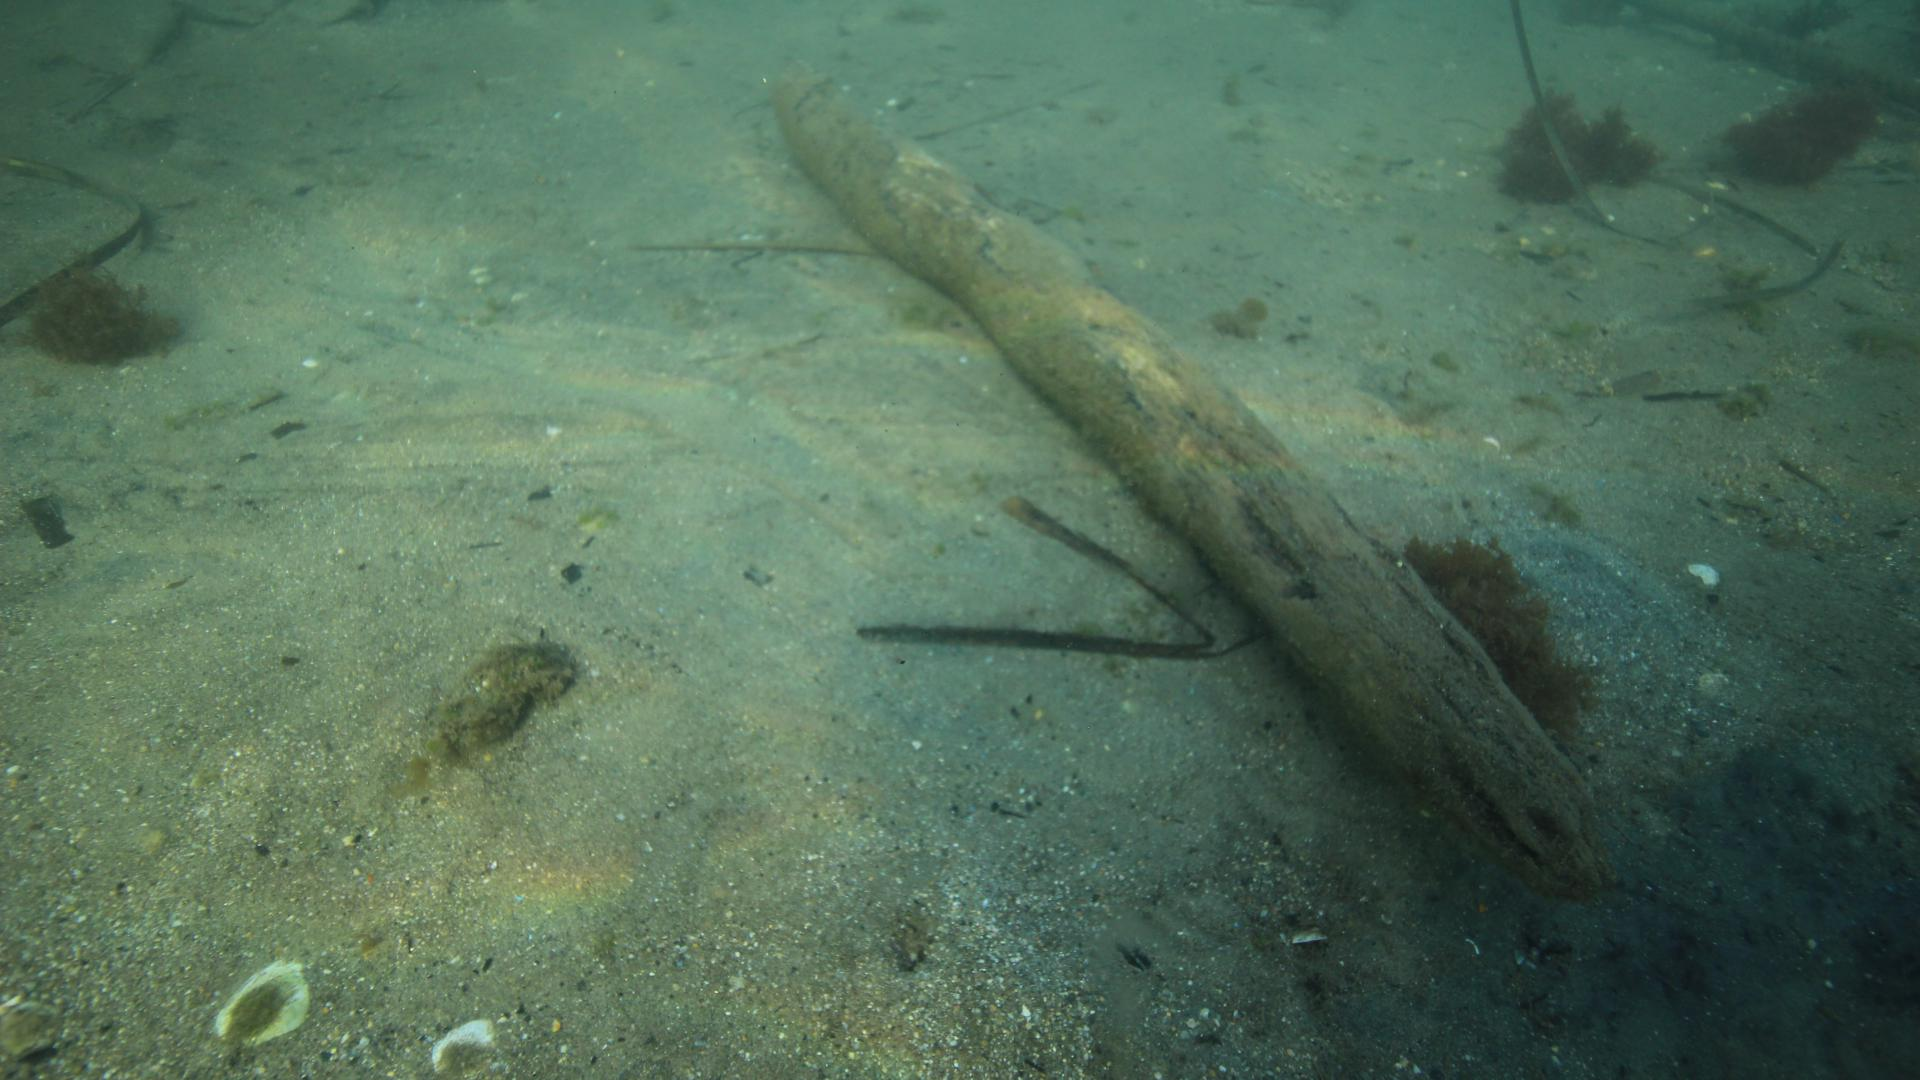wood: (765, 51, 1615, 903)
